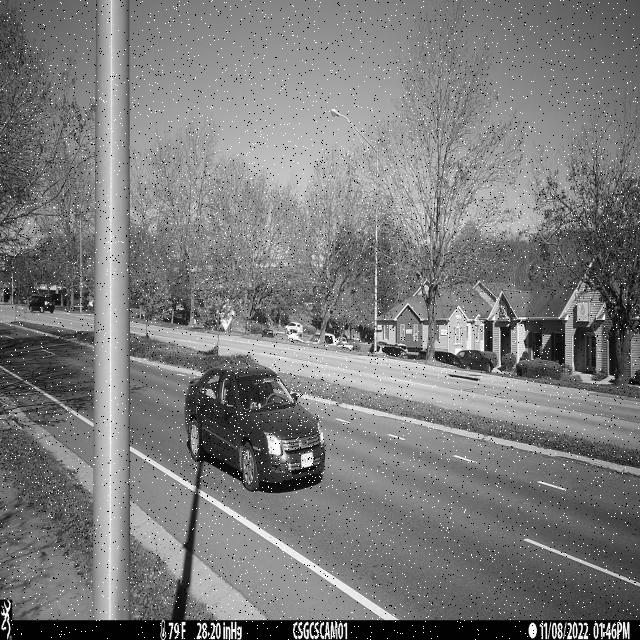Sedan: (184, 364, 327, 492)
